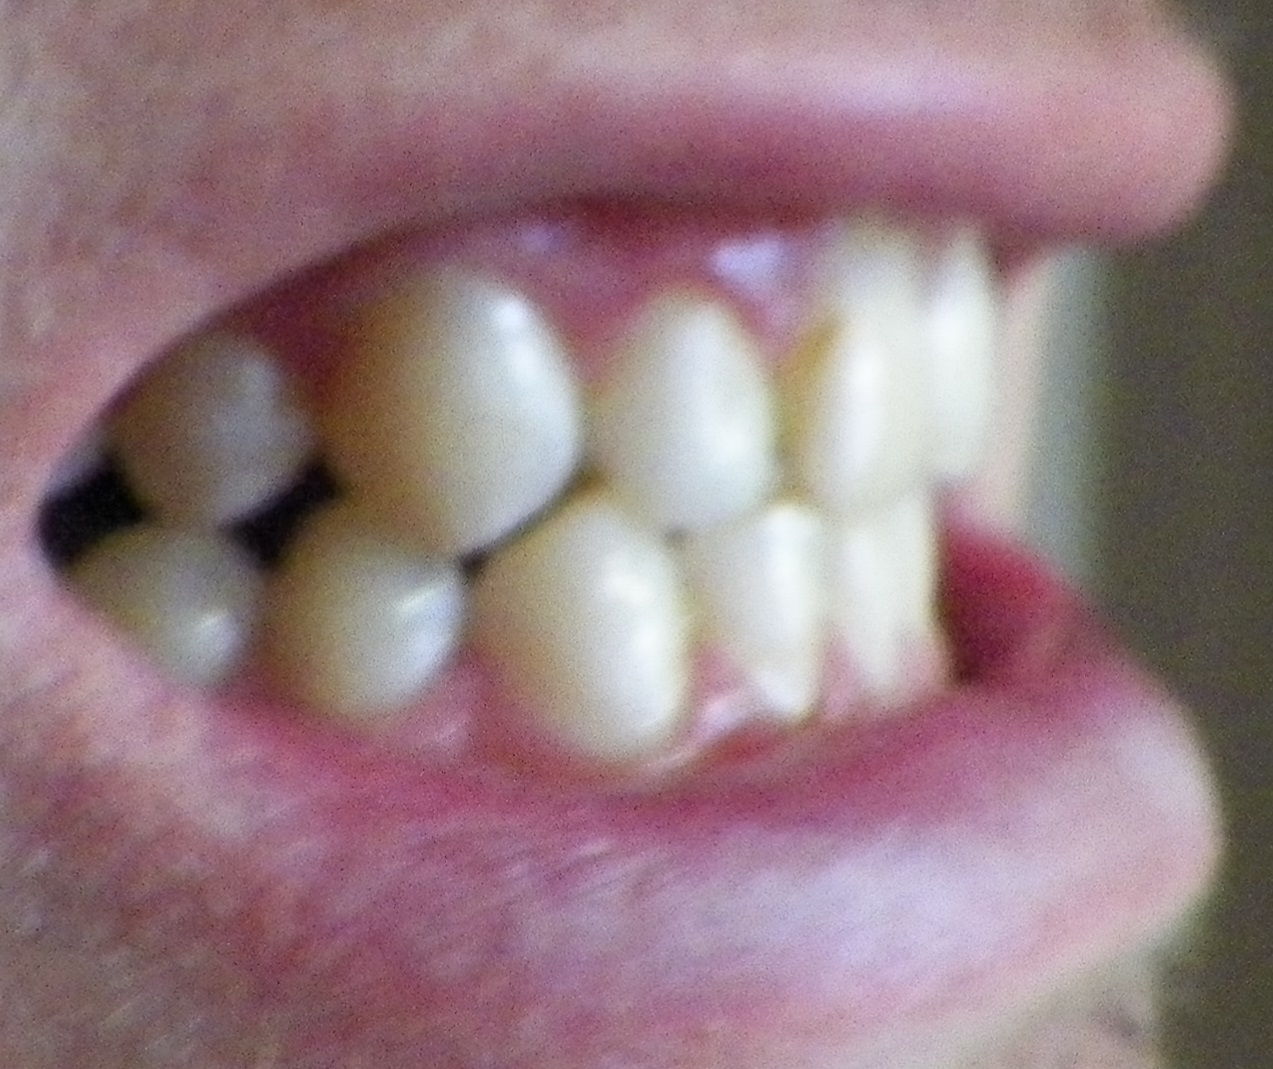boca: (88, 239, 1025, 734)
